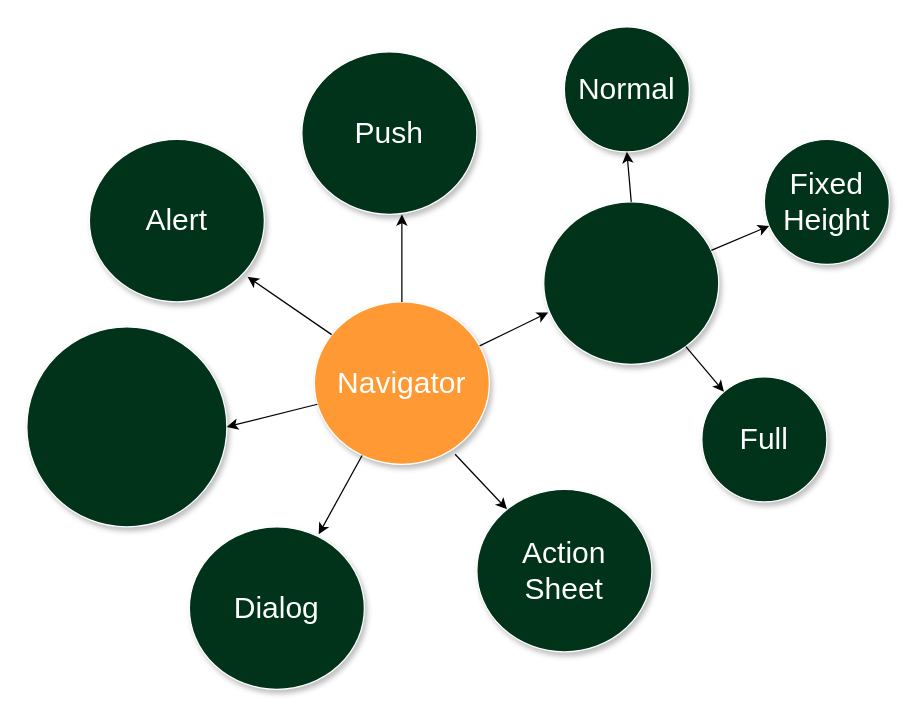
The diagram is 919 pixels wide and 720 high, and some of its shapes have lost their labels. The centre of each missing label's shape, as x and y in pixels:
"Confirmation Dialog" goes at point 127,428.
"Sheet" goes at point 632,284.
